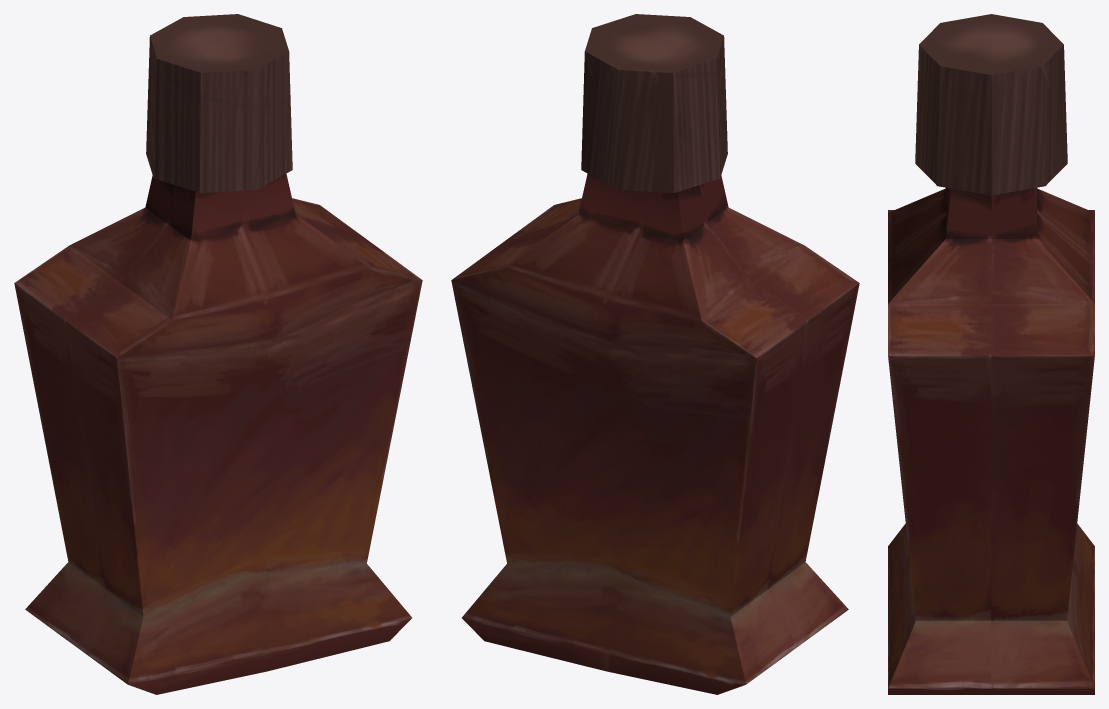
Rendered from jackdaniels.FBX.
3 renders of one model, left to right at view 1: azimuth 30°, elevation 25°; view 2: azimuth 150°, elevation 25°; view 3: azimuth 270°, elevation 25°, orthographic.
Visible parts, largest first — view 1: Box002; view 2: Box002; view 3: Box002.
Part boxes in pixels (left/top/right/bottom): Box002: left=14, top=14, right=422, bottom=694; Box002: left=451, top=14, right=859, bottom=694; Box002: left=888, top=14, right=1094, bottom=694.
Size of the model in its own units: 23.5 by 43.39 by 13.7.
